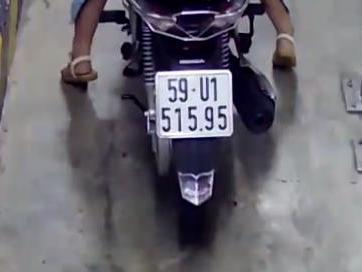num_plate: (154, 69, 233, 139)
